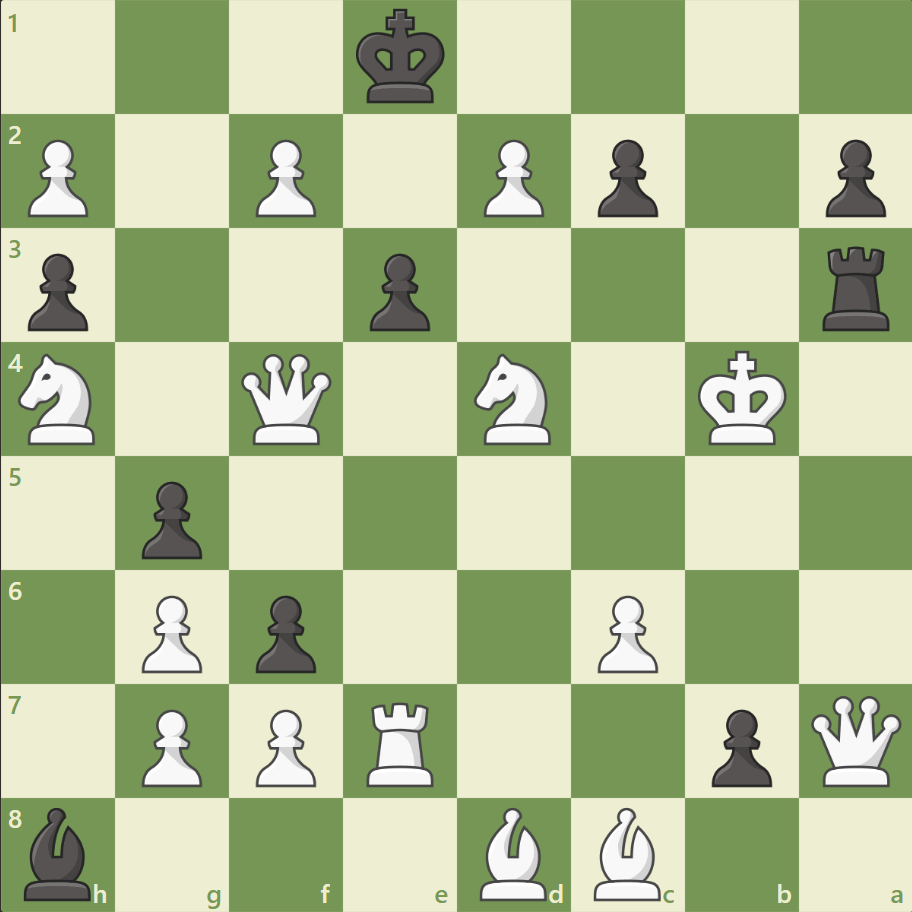B: (585, 801, 669, 904), (471, 801, 555, 904)
K: (692, 344, 792, 452)
N: (465, 348, 562, 450), (11, 348, 108, 450)
P: (247, 700, 322, 791), (133, 700, 208, 791), (133, 586, 208, 677), (474, 132, 549, 223), (247, 132, 322, 223), (20, 132, 95, 223), (588, 586, 662, 677)
Q: (237, 349, 336, 449), (805, 690, 904, 789)
R: (360, 693, 442, 790)
b: (17, 801, 101, 904)
k: (351, 4, 451, 112)
p: (701, 700, 776, 791), (247, 586, 322, 677), (133, 473, 208, 564), (20, 246, 95, 337), (361, 246, 435, 337), (815, 132, 889, 223), (588, 132, 662, 223)
r: (814, 239, 897, 336)
